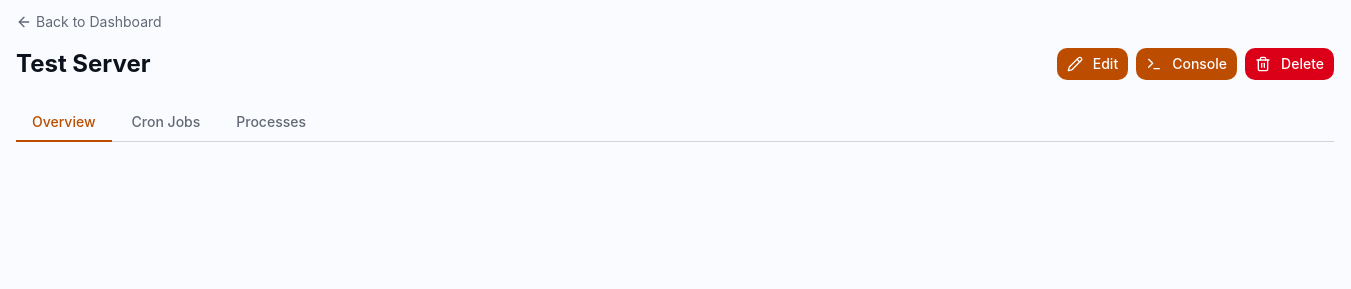
Test: ServerDetail — Processes tab › shows loading state when tab is selected
This screenshot has width=1351, height=289.
Step 1. Click the tab "Processes" → (271, 123), box [220, 104, 322, 142]
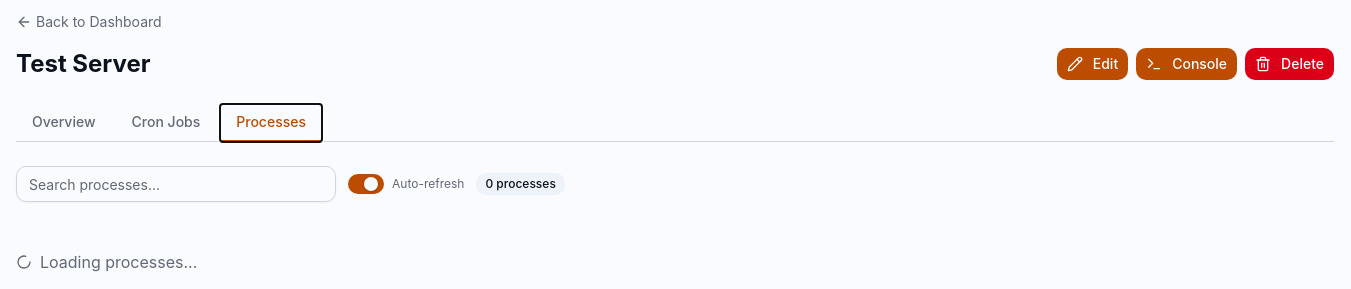
Check: the element with test id "processes-loading" is shown, box [16, 252, 197, 272]
